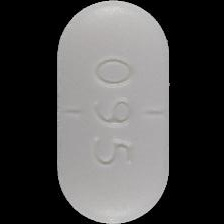50090-0706: (0, 0, 224, 224)
